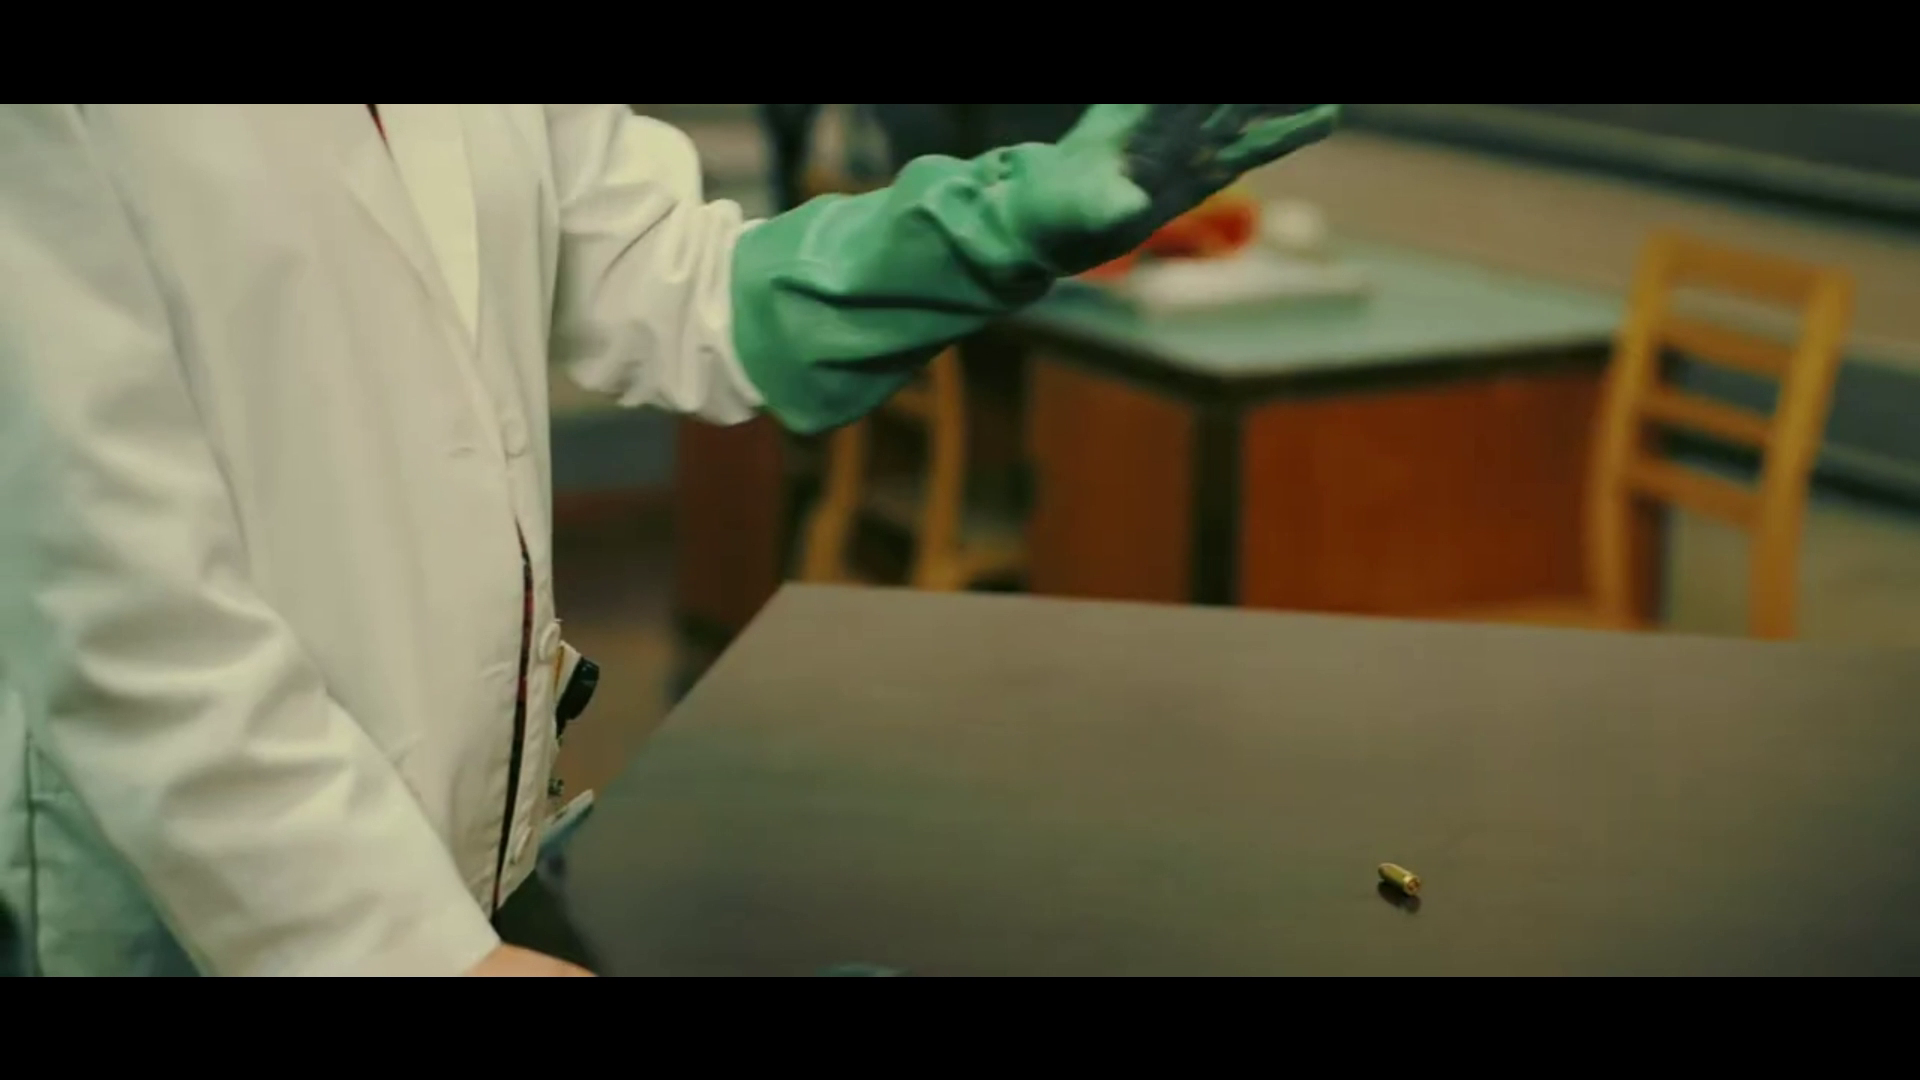Bullet: (1373, 858, 1422, 894)
